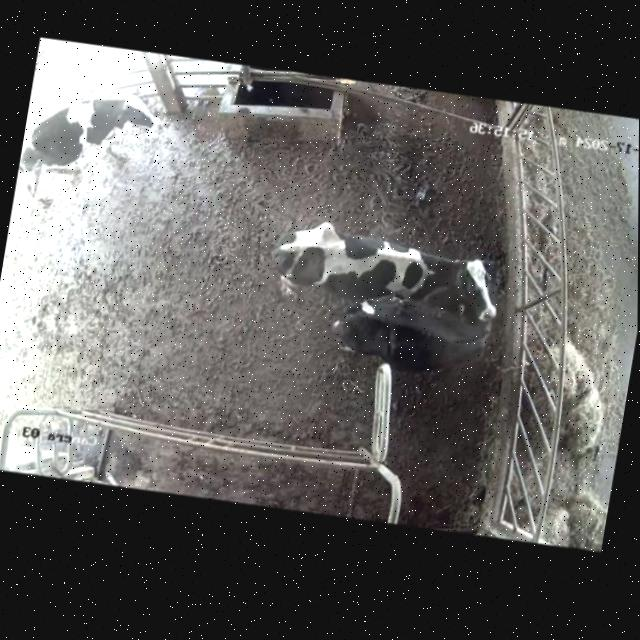propping: (427, 228, 516, 364)
stand: (12, 62, 182, 230), (324, 282, 509, 394)
